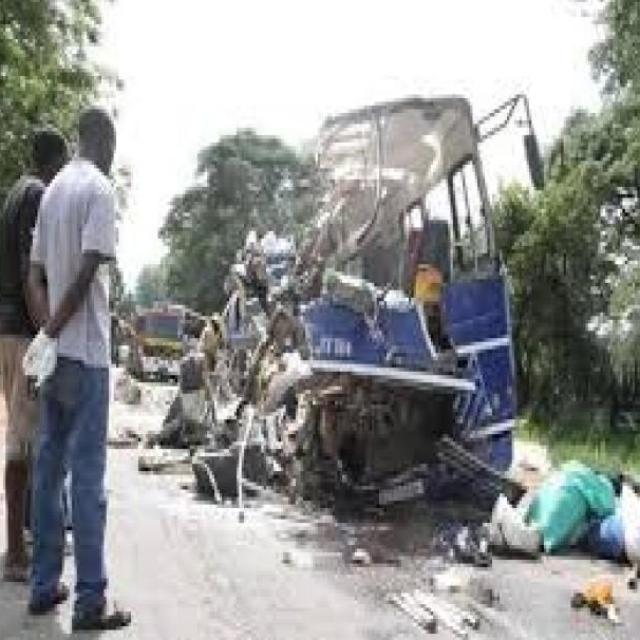accident: (185, 84, 543, 514)
